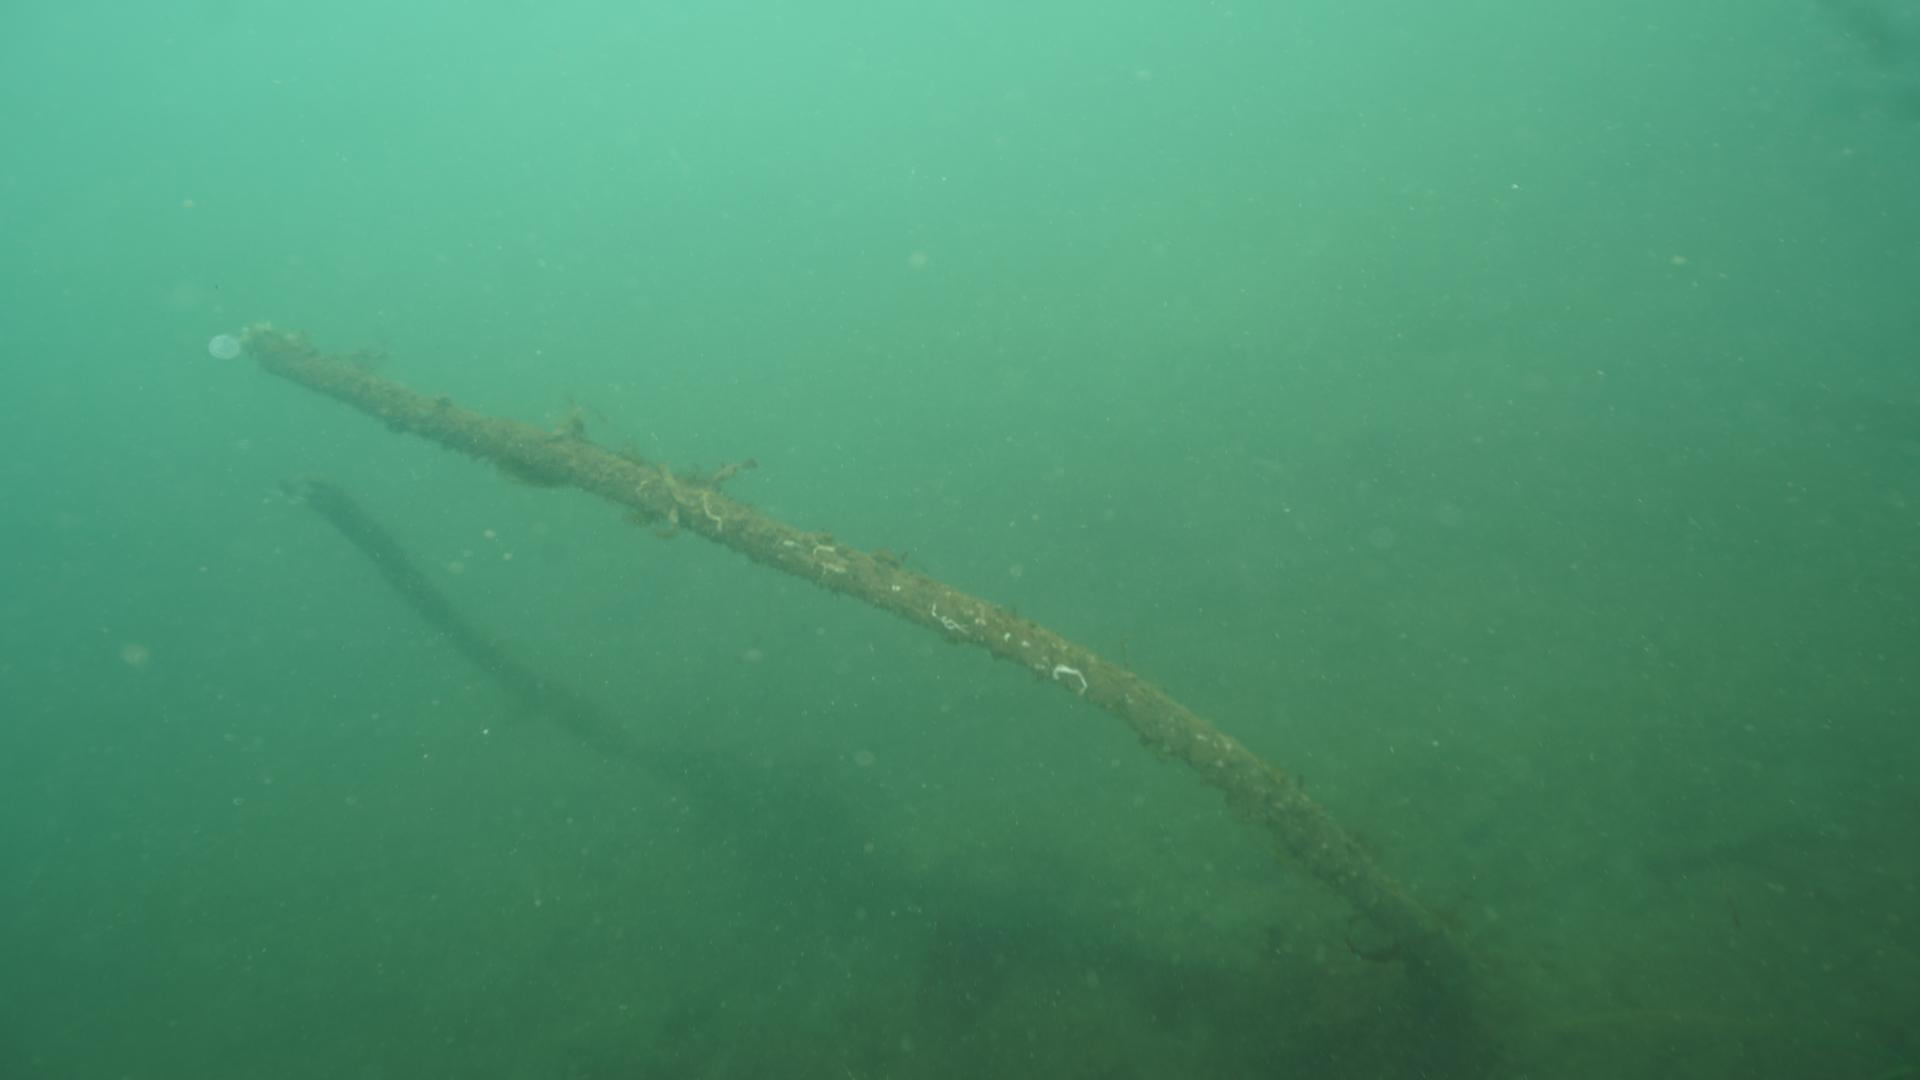rope: (247, 330, 1469, 1048)
